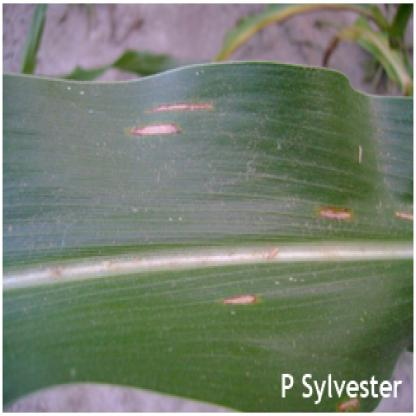corn gray leaf spot: (11, 59, 412, 365)
